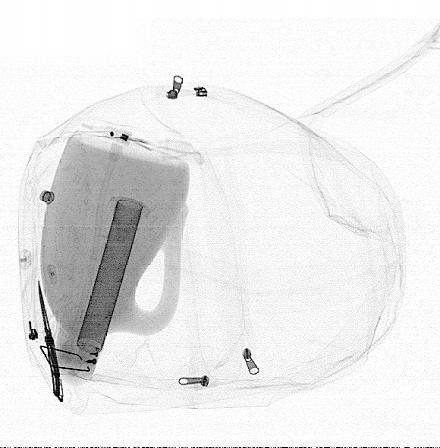Knife: (38, 279, 63, 403)
